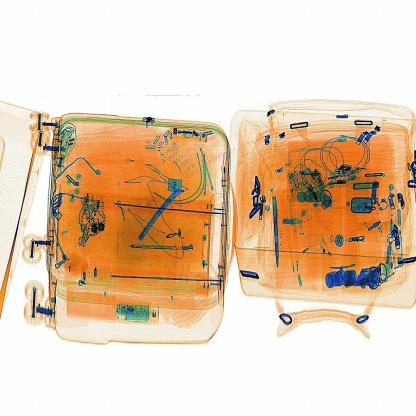pliers: (143, 176, 188, 250)
